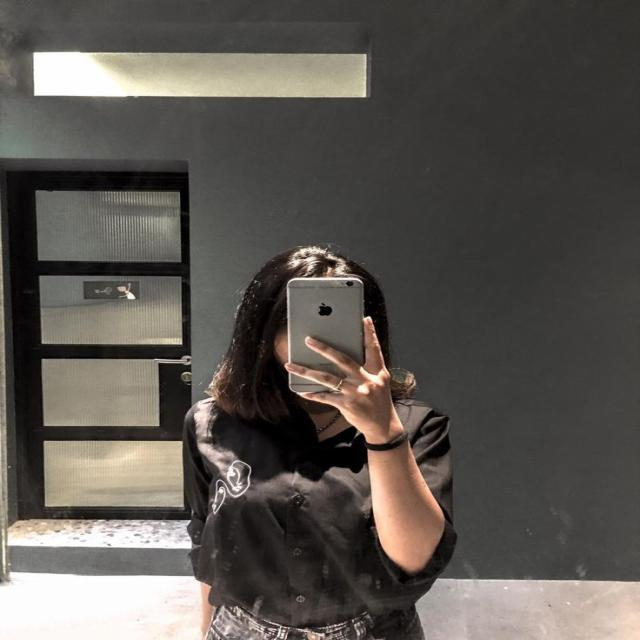phone: (286, 278, 364, 392)
